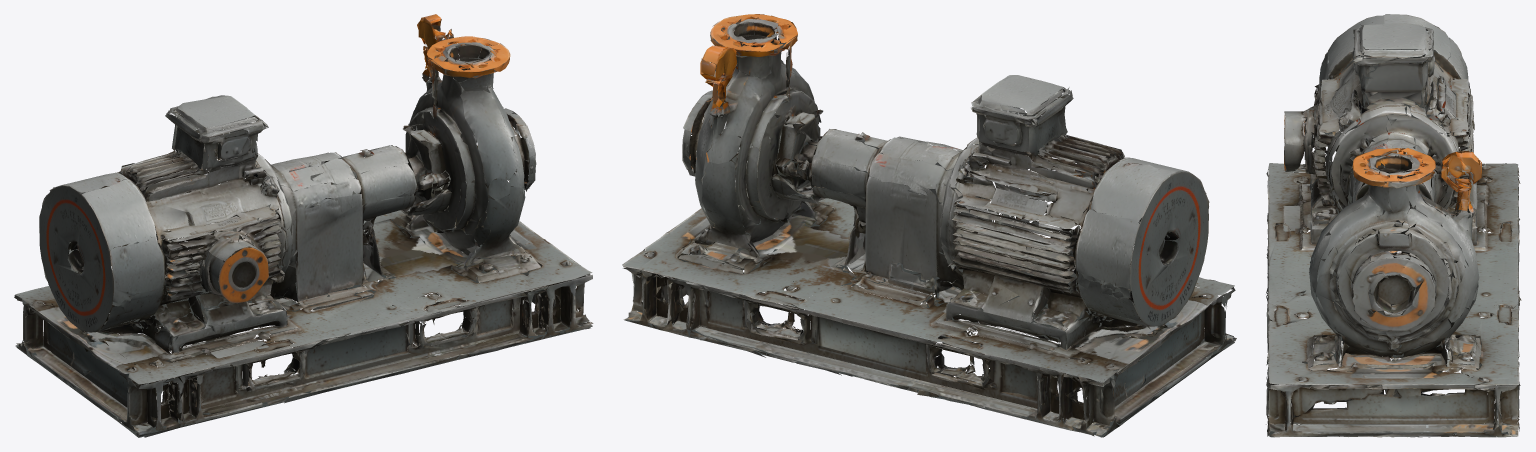
Rendered from Props_CoolingPump.fbx.
3 renders of one model, left to right at view 1: azimuth 30°, elevation 25°; view 2: azimuth 150°, elevation 25°; view 3: azimuth 270°, elevation 25°, orthographic. The views are drawn at different scales.
Visible parts, largest first — view 1: texture_mapping; view 2: texture_mapping; view 3: texture_mapping.
Part boxes in pixels (x1,y1,x2,y2): texture_mapping: (14, 14, 593, 437); texture_mapping: (622, 14, 1236, 437); texture_mapping: (1266, 14, 1521, 437).
Bounding box in the file's own units: 1 × 0.5337 × 0.4867.
